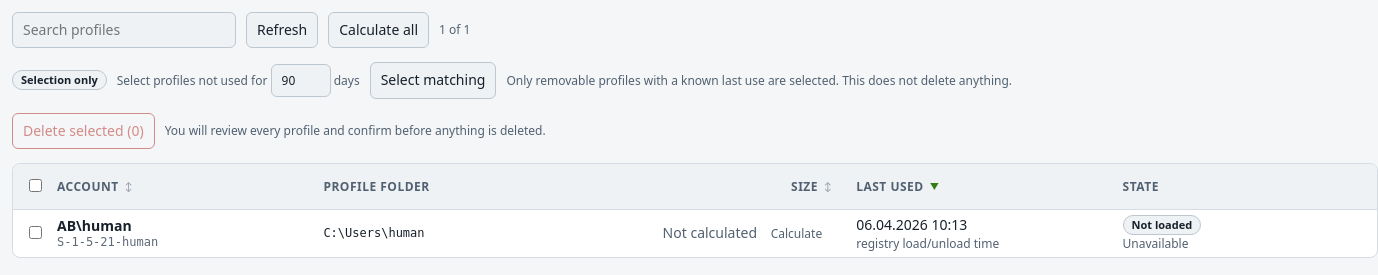
Test case: Profiles tab › hides system, service, default and renamed RID 500 profiles from older server payloads
The width and height of the screenshot is (1378, 275).
Expected: the text "AB\\human" is shown, [57,216,132,235]
Expected: the number of rows is 2, [13,164,1377,210]; [13,210,1377,257]
Click the checkbox named "Select all removable profiles" at (36, 186), box [29,179,42,192]
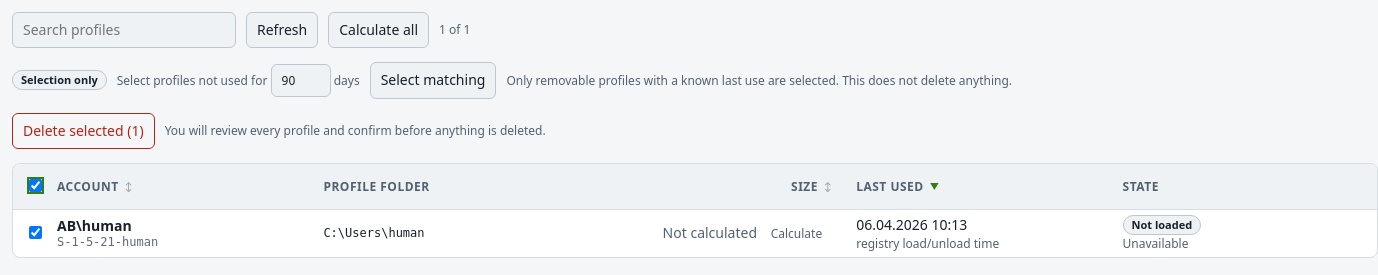
Now the button "Delete selected (1)" is enabled, box [12,113,155,149]
